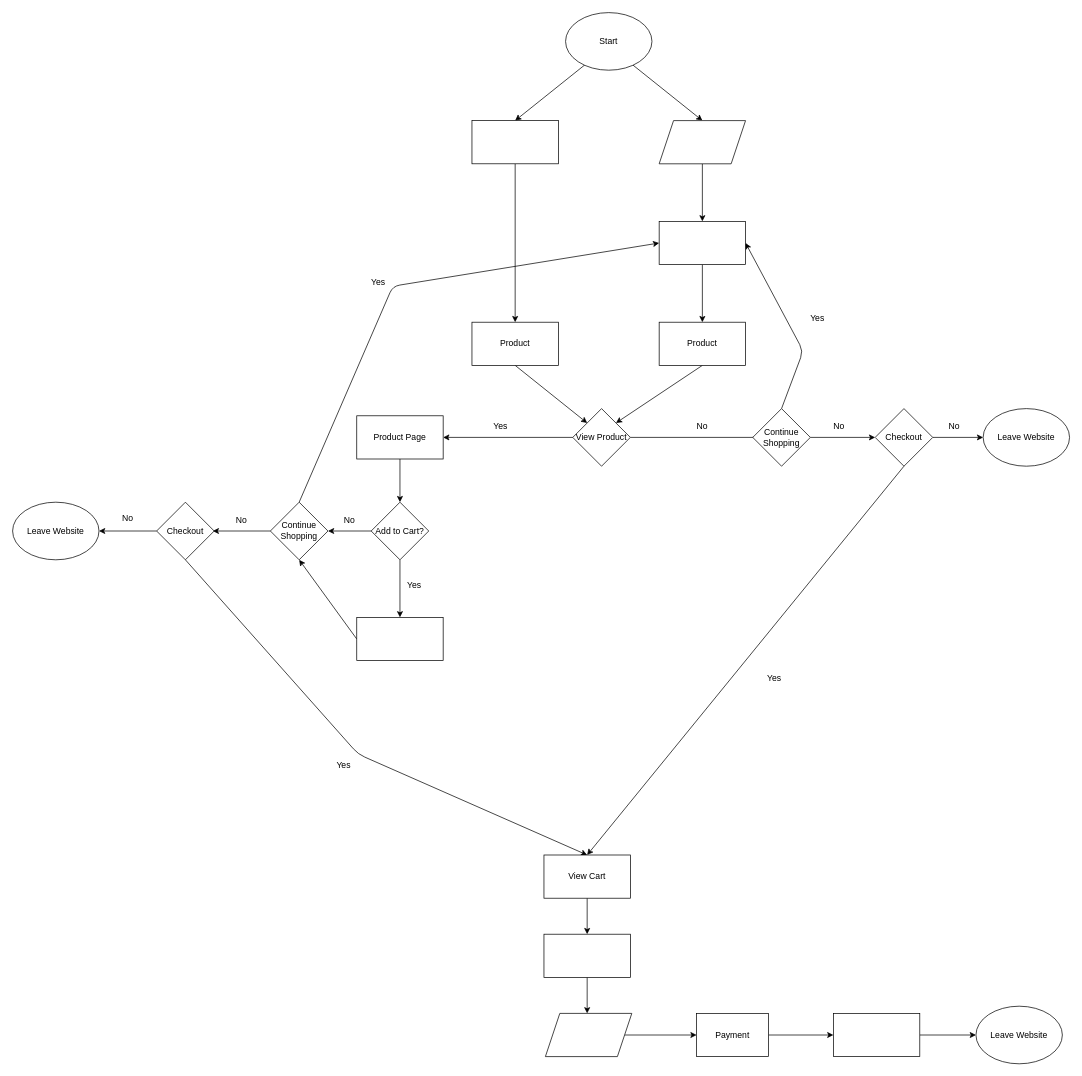
This 1082x1076 diagram has some shape labels left out. The box of each missing label's shape, as (x1, y1, x2, y2) in pixels:
Add to Cart Confirmation: (356, 617, 443, 661)
Home Page: (471, 120, 558, 164)
Order Confirmation And Email: (833, 1013, 920, 1057)
Payment Information: (545, 1013, 632, 1057)
Product Name: (658, 120, 746, 164)
Search: (658, 221, 746, 265)
View Payment: (543, 933, 630, 977)
